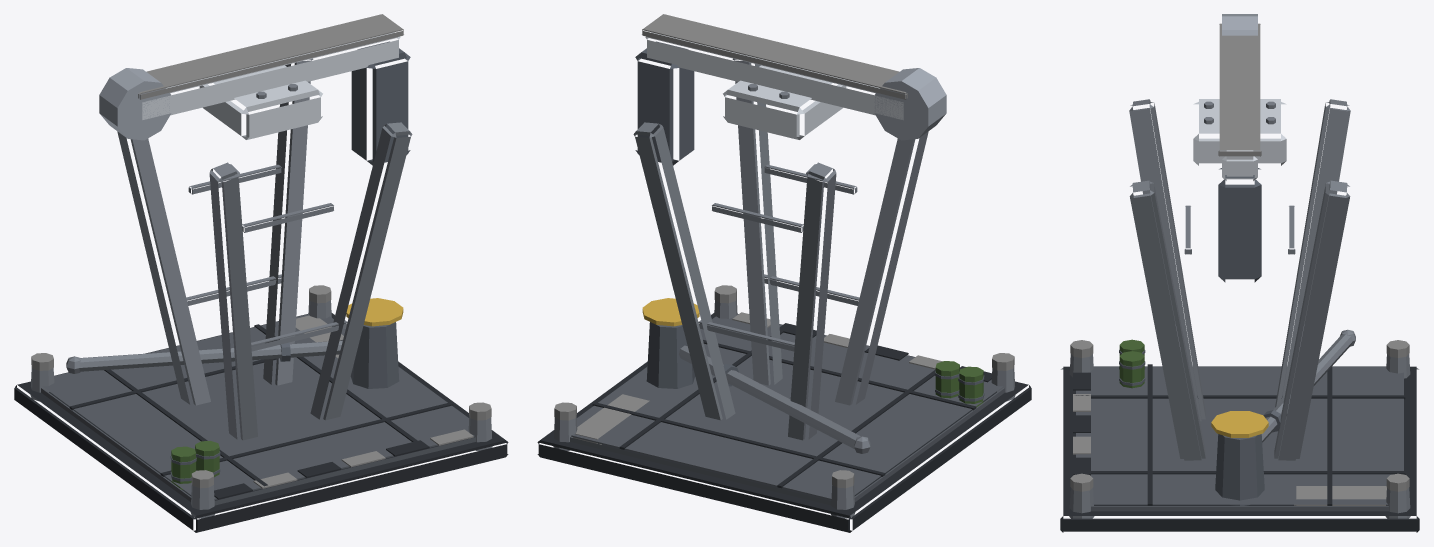
Rendered from con_derrick.glb.
3 views of the same model, side by side, from view 1: azimuth 30°, elevation 25°; view 2: azimuth 150°, elevation 25°; view 3: azimuth 270°, elevation 25° (orthographic).
Visible parts, largest first — view 1: body, spinner; view 2: body, spinner; view 3: body, spinner.
Boxes of the visible parts, x1,y1,x2,y2 form: body: (14, 58, 508, 532); spinner: (99, 14, 410, 165); body: (537, 58, 1031, 532); spinner: (635, 14, 946, 165); body: (1060, 99, 1419, 532); spinner: (1218, 14, 1261, 282).
Size of the model in its own units: 48 by 56.16 by 48.
